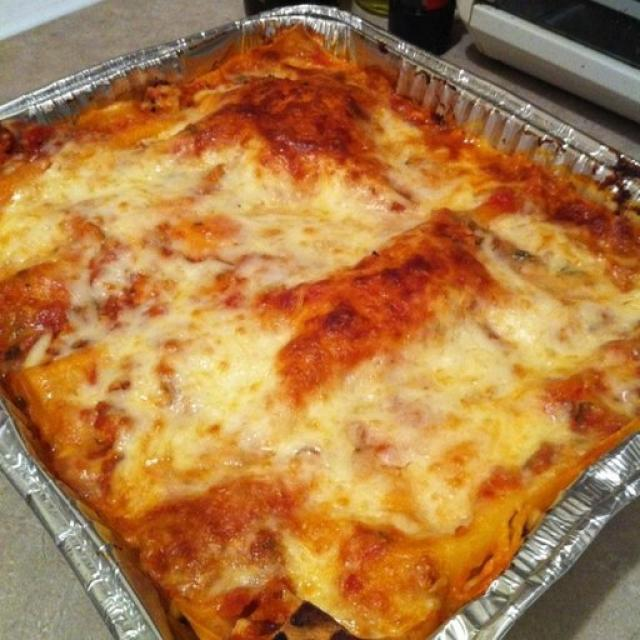Lasagna: (2, 32, 640, 640)
